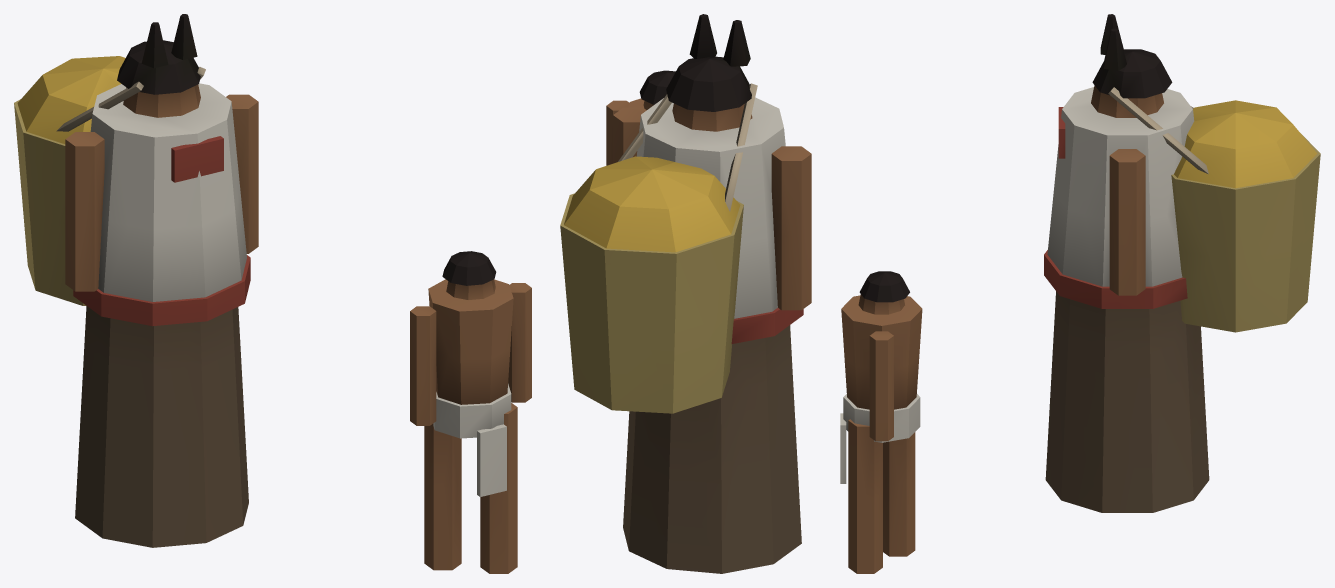
Rendered from handcart.glb.
3 views of the same model, side by side, from view 1: azimuth 30°, elevation 25°; view 2: azimuth 150°, elevation 25°; view 3: azimuth 270°, elevation 25° (orthographic). The views are drawn at different scales.
Parts seen in each view (by area): view 1: base; view 2: base; view 3: base.
Part boxes in pixels (x1,y1,x2,y2): base: [14, 14, 531, 573]; base: [560, 14, 811, 573]; base: [840, 14, 1320, 573].
Bounding box in the file's own units: 1.05 × 1.54 × 1.47.
